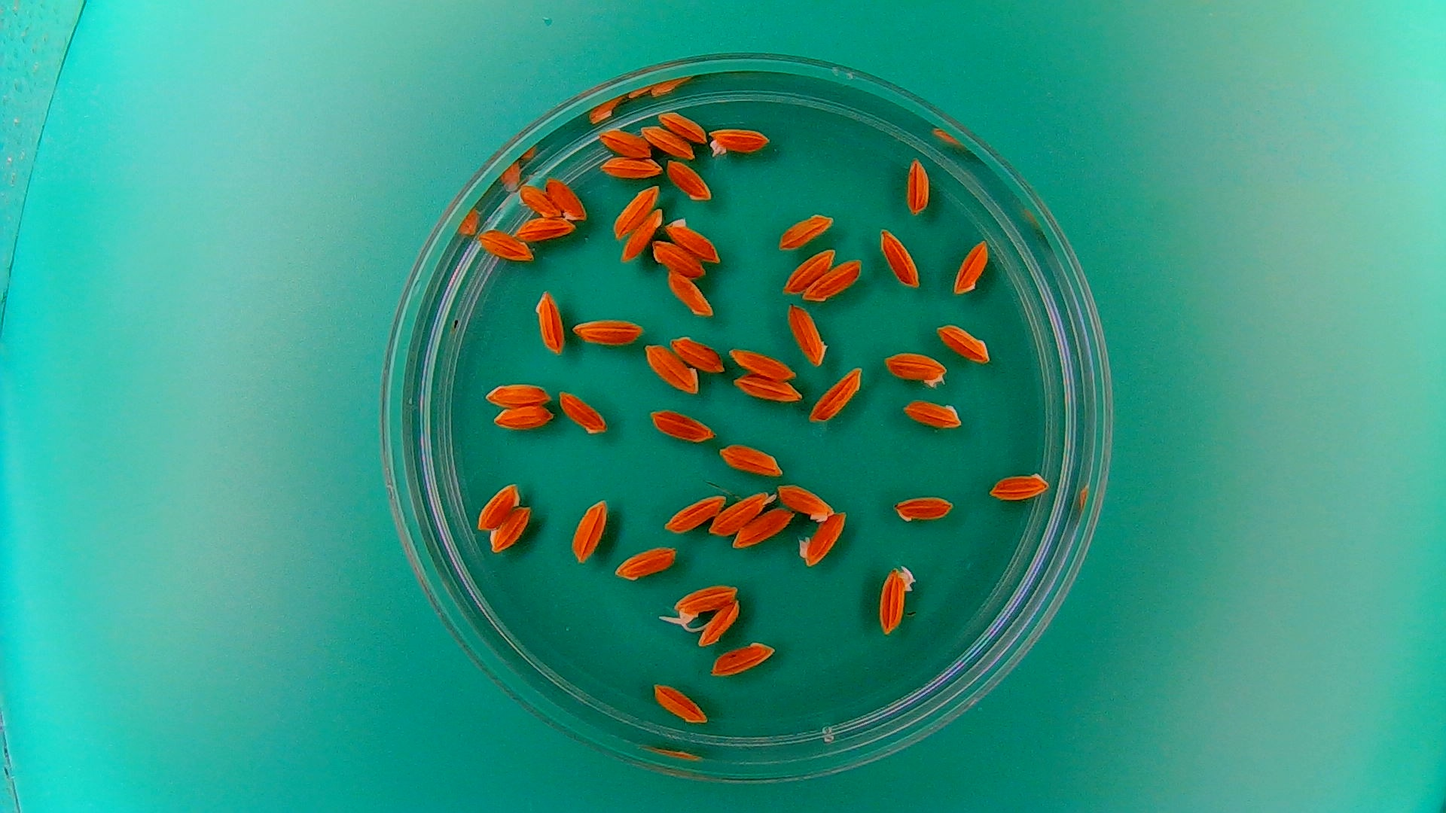no: (706, 487, 773, 539), (807, 364, 864, 425), (642, 340, 700, 397), (660, 489, 727, 537), (876, 562, 918, 638), (797, 509, 849, 569), (731, 504, 796, 551), (707, 637, 778, 680), (662, 214, 723, 263), (801, 256, 864, 303), (609, 182, 660, 240), (786, 300, 830, 367), (878, 225, 922, 291), (568, 496, 610, 565), (646, 405, 718, 445), (882, 349, 950, 390), (716, 440, 785, 480), (773, 480, 837, 523), (619, 206, 665, 265), (651, 680, 710, 726), (728, 344, 799, 382), (664, 266, 715, 318), (556, 387, 609, 437), (613, 543, 679, 583), (781, 246, 836, 294), (935, 318, 992, 364), (473, 479, 522, 531), (569, 314, 645, 347), (473, 225, 535, 265), (776, 209, 836, 250), (667, 332, 727, 373), (696, 597, 743, 649), (487, 503, 534, 555), (950, 237, 990, 297), (648, 238, 706, 279), (637, 123, 696, 163), (663, 156, 714, 202), (986, 468, 1053, 503), (544, 172, 589, 223), (533, 286, 566, 355), (900, 396, 965, 431), (732, 373, 801, 405), (654, 107, 710, 145), (891, 492, 955, 525), (481, 378, 552, 407), (597, 124, 653, 160), (489, 403, 555, 431), (902, 155, 932, 215), (513, 215, 578, 242), (596, 154, 661, 181), (514, 182, 559, 218)
yes: (668, 580, 740, 626), (706, 123, 773, 157)
